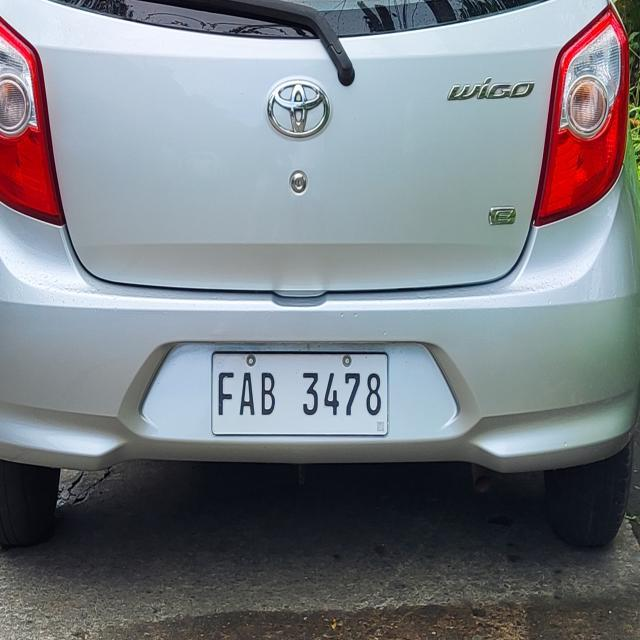LicensePlate: (206, 339, 397, 442)
